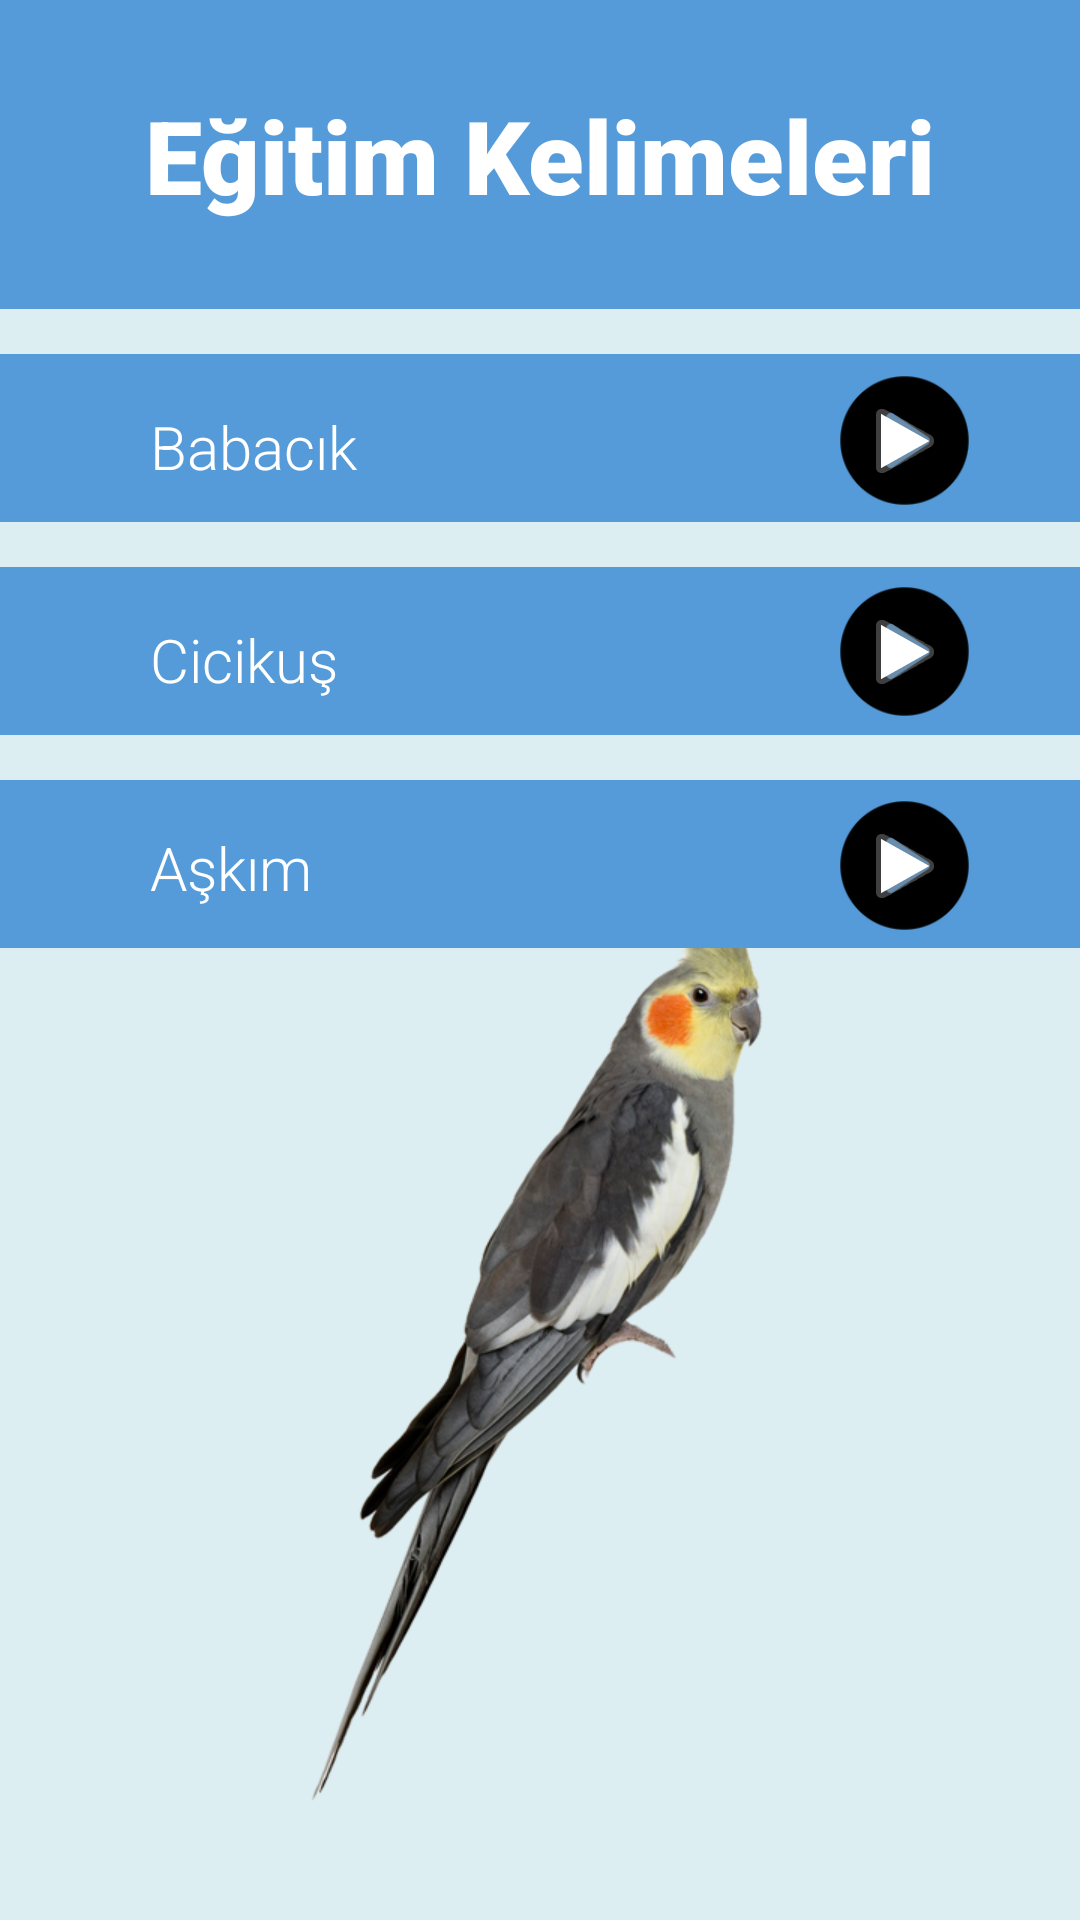

Screen size 1080w x 1920h. Icon name, then its box in pixels as bbox=(x1, y1, x2, y2):
play: bbox=(840, 376, 969, 505), bbox=(840, 587, 969, 716), bbox=(840, 801, 969, 930)
